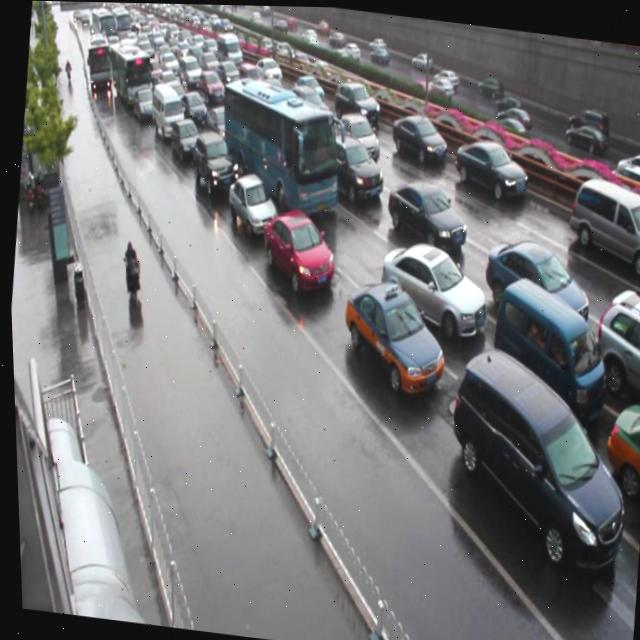car: (332, 275, 449, 399), (372, 240, 488, 344), (476, 238, 591, 334), (254, 207, 337, 297), (380, 180, 467, 252), (586, 284, 640, 399), (448, 138, 529, 211), (594, 399, 640, 502), (325, 134, 385, 210), (221, 171, 280, 241), (386, 110, 448, 166), (187, 132, 238, 197), (332, 107, 382, 162), (331, 77, 380, 126), (166, 119, 201, 169), (201, 109, 235, 151), (177, 92, 209, 133)
truck: (433, 340, 635, 571), (480, 275, 612, 426), (562, 173, 640, 275)
van: (211, 76, 346, 218)
